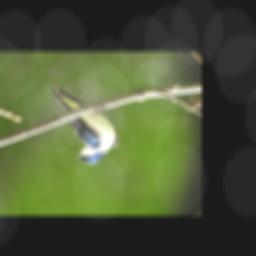Swallow: (49, 87, 120, 164)
